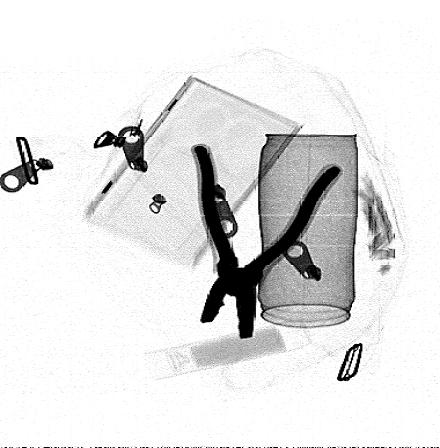Pliers: (195, 144, 345, 341)
